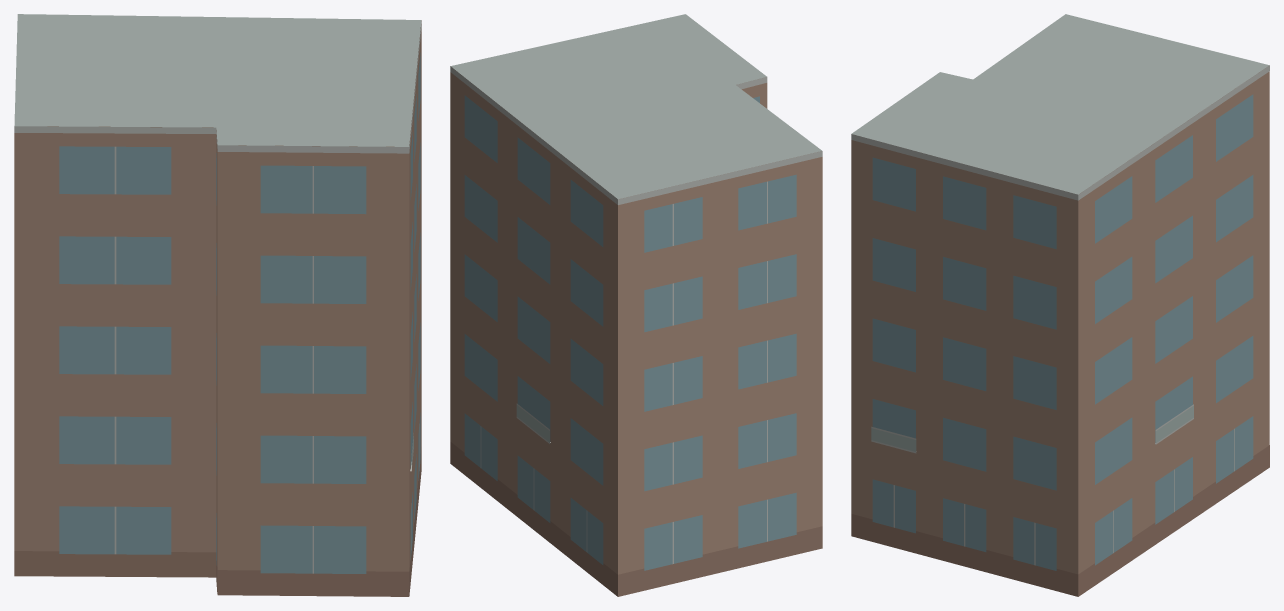
File: survey-upis-32864067.glb
3 renders of one model, left to right at view 1: azimuth 30°, elevation 25°; view 2: azimuth 150°, elevation 25°; view 3: azimuth 270°, elevation 25°, orthographic. The views are drawn at different scales.
Visible parts, largest first — view 1: survey-upis-32864067.tmp; view 2: survey-upis-32864067.tmp; view 3: survey-upis-32864067.tmp.
Boxes of the visible parts, x1,y1,x2,y2 form: survey-upis-32864067.tmp: (14, 14, 421, 596); survey-upis-32864067.tmp: (450, 14, 822, 596); survey-upis-32864067.tmp: (851, 14, 1269, 596).
Size of the model in its own units: 15.85 by 16.45 by 15.52.
